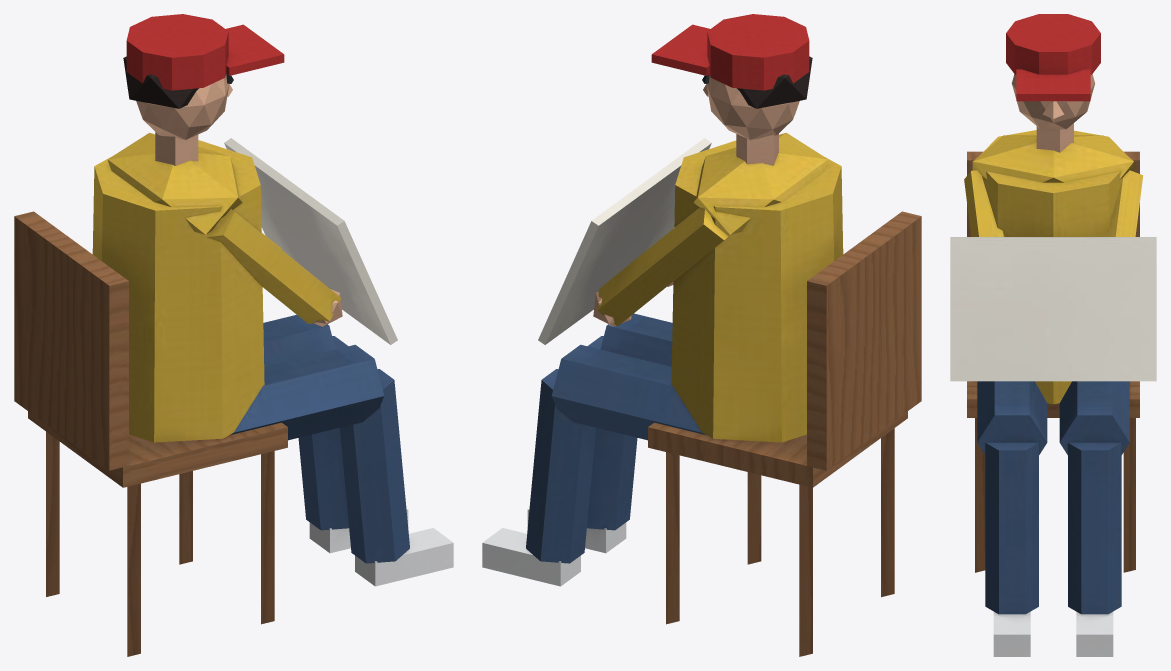
File: fikagast_2_tex.glb
3 views of the same model, side by side, from view 1: azimuth 30°, elevation 25°; view 2: azimuth 150°, elevation 25°; view 3: azimuth 270°, elevation 25° (orthographic). The views are drawn at different scales.
Parts seen in each view (by area): view 1: fikagast_2; view 2: fikagast_2; view 3: fikagast_2.
Boxes of the visible parts, x1=… form: fikagast_2: x1=14, y1=14, x2=453, y2=656; fikagast_2: x1=482, y1=14, x2=921, y2=656; fikagast_2: x1=950, y1=14, x2=1156, y2=656.
Size of the model in its own units: 0.915 by 1.38 by 0.5.
10 materials, 9 textured.
